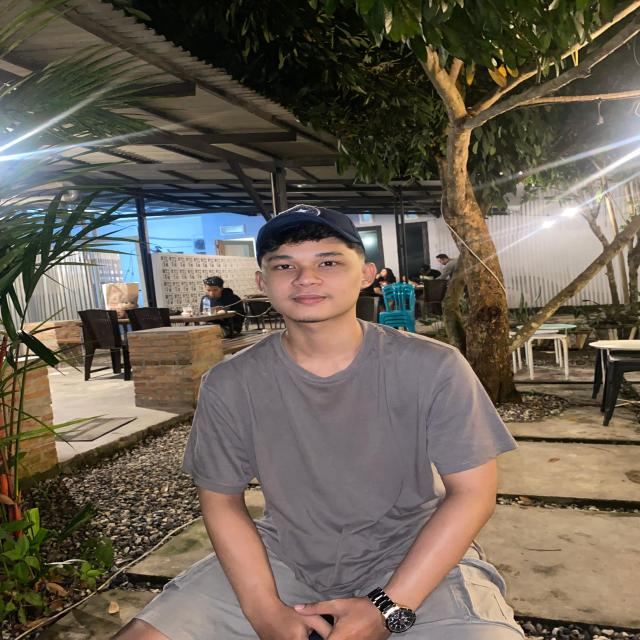nohelmet: (251, 200, 371, 325)
